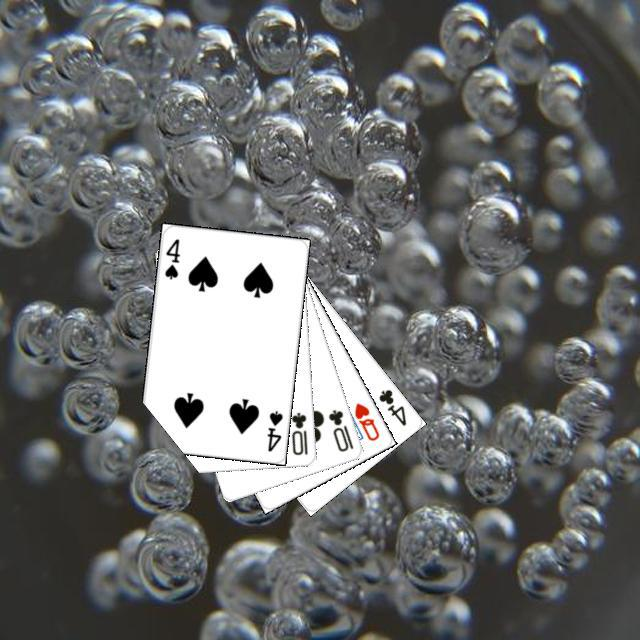10c: (323, 405, 355, 453), (287, 408, 309, 457)
4c: (374, 384, 408, 428)
4s: (262, 406, 284, 453), (160, 234, 182, 281)
Qh: (349, 398, 381, 443)
